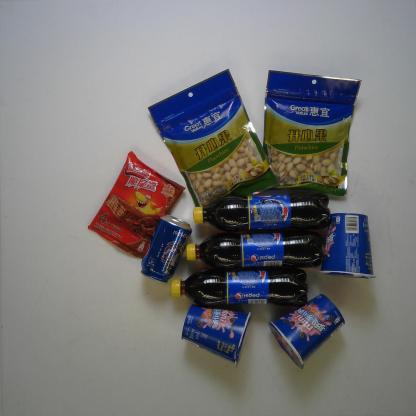Dessert: (84, 150, 186, 261), (267, 292, 346, 372), (180, 302, 254, 367), (319, 210, 375, 280)
Dried Fruit: (146, 68, 280, 210), (260, 68, 362, 196)
Drink: (182, 226, 325, 271), (188, 191, 335, 234), (171, 264, 312, 308), (139, 214, 194, 284)
